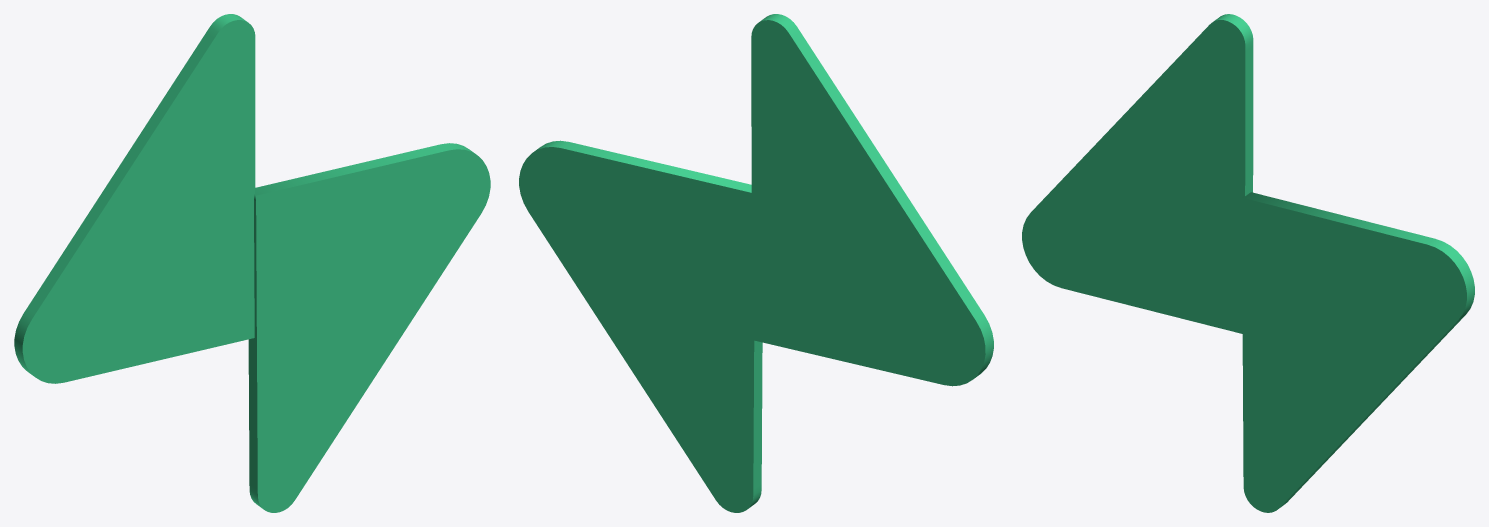
File: supabase.glb
The picture shows the model from 3 angles, left to right: view 1: azimuth 30°, elevation 25°; view 2: azimuth 150°, elevation 25°; view 3: azimuth 330°, elevation 25°; orthographic projection. The views are drawn at different scales.
Parts seen in each view (by area): view 1: Curve; view 2: Curve; view 3: Curve.
Boxes of the visible parts, x1,y1,x2,y2 form: Curve: (14,14,490,512); Curve: (519,14,993,512); Curve: (1022,14,1474,512).
Bounding box in the file's own units: 0.00646 × 0.00664 × 0.000252.
